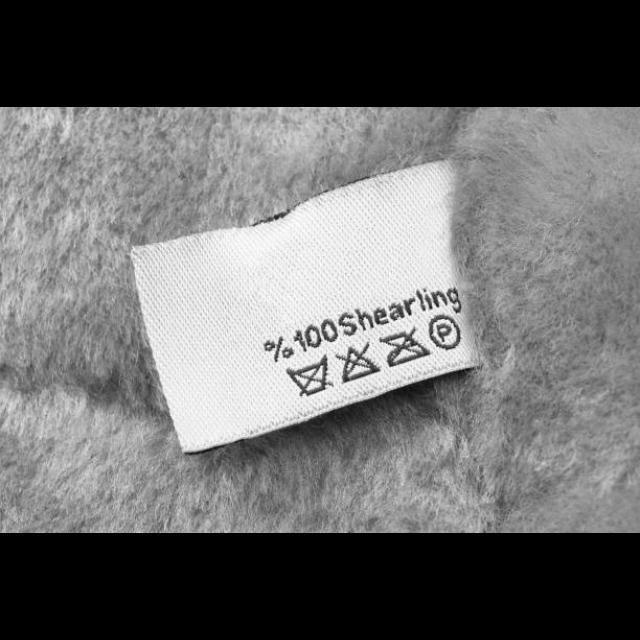DN_bleach: (334, 339, 384, 387)
DN_iron: (377, 324, 433, 371)
DN_wash: (282, 352, 336, 400)
normal_dry_clean_solvents: (426, 311, 464, 353)
